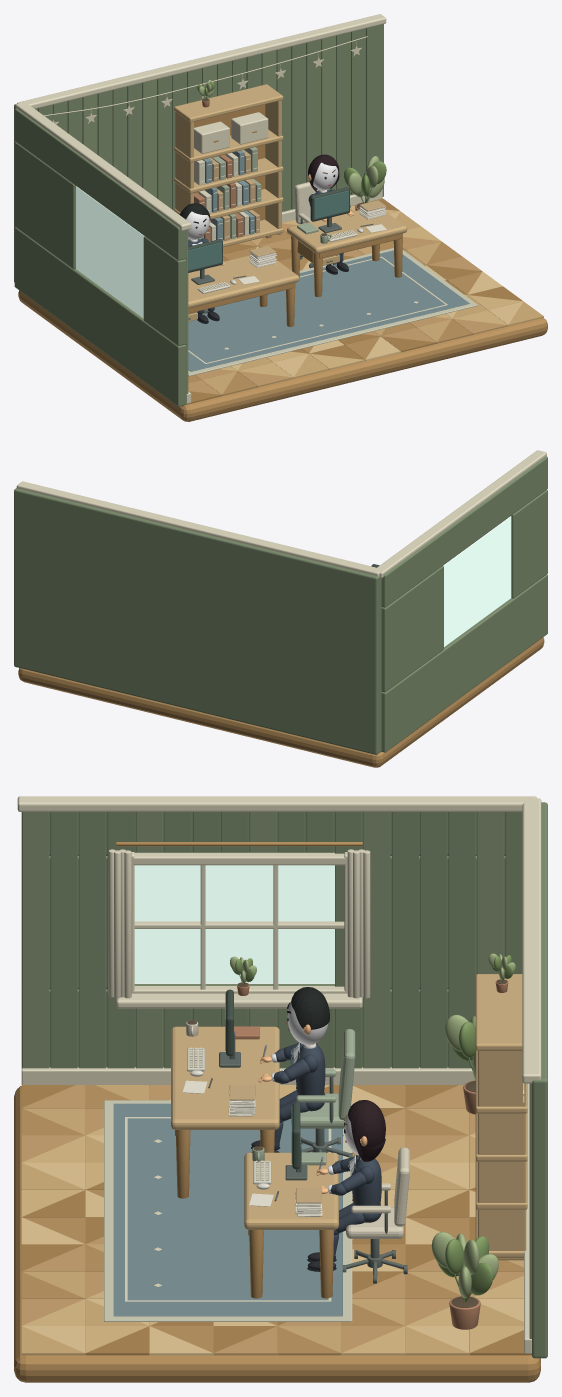
Rendered from office.glb.
3 views of the same model, one above another, from view 1: azimuth 30°, elevation 25°; view 2: azimuth 150°, elevation 25°; view 3: azimuth 270°, elevation 25° (orthographic). The views are drawn at different scales.
Visible parts, largest first — view 1: Rug / shared blue sage center, Left wall / below window, Room / rounded display foundation, Left wall / above window, Window / scenic daylight insert, Left wall / rear window side, Back wall / crown trim, Left wall / front window side, Boss / thick rounded desktop, Assistant / thick rounded desktop, Back wall / panel 18, Left wall / crown trim (+35 smaller); view 2: Back wall / structural shell, Left wall / below window, Room / rounded display foundation, Left wall / above window, Window / scenic daylight insert, Left wall / rear window side, Back wall / crown trim, Left wall / front window side, Left wall / crown trim; view 3: Rug / shared blue sage center, Window / scenic daylight insert, Room / rounded display foundation, Bookcase / vertical side.001, Boss / thick rounded desktop, Left wall / crown trim, Left wall / panel 00_0.1, Left wall / panel 01_0.1, Left wall / panel 14_0.1, Left wall / panel 02_0.1, Left wall / panel 13_0.1, Back wall / structural shell (+97 smaller).
Part boxes in pixels (x1,y1,x2,y2): Rug / shared blue sage center: (188,250,469,371); Left wall / below window: (14,227,186,406); Room / rounded display foundation: (18,290,547,421); Left wall / above window: (14,108,186,260); Window / scenic daylight insert: (76,186,144,318); Left wall / rear window side: (14,142,75,269); Back wall / crown trim: (17,14,386,108); Left wall / front window side: (143,236,186,345); Boss / thick rounded desktop: (188,255,299,308); Assistant / thick rounded desktop: (287,210,407,253); Back wall / panel 18: (291,43,306,209); Left wall / crown trim: (15,102,191,230); Back wall / structural shell: (14,488,381,754); Left wall / below window: (381,574,547,752); Room / rounded display foundation: (18,637,544,767); Left wall / above window: (381,456,547,607); Window / scenic daylight insert: (443,516,511,646); Left wall / rear window side: (381,566,443,692); Back wall / crown trim: (16,481,381,576); Left wall / front window side: (511,489,547,598); Left wall / crown trim: (375,450,546,578); Rug / shared blue sage center: (113,1103,342,1316); Window / scenic daylight insert: (134,865,334,983); Room / rounded display foundation: (14,1086,540,1382); Bookcase / vertical side.001: (477,1051,526,1260); Boss / thick rounded desktop: (171,1026,279,1129); Left wall / crown trim: (17,796,536,811); Left wall / panel 00_0.1: (22,812,49,1068); Left wall / panel 01_0.1: (50,812,77,1068); Left wall / panel 14_0.1: (420,812,447,1068); Left wall / panel 02_0.1: (79,812,105,1068); Left wall / panel 13_0.1: (392,812,418,1068); Back wall / structural shell: (532,802,547,1358).
Size of the model in its own units: 7.04 by 3.62 by 5.63.
